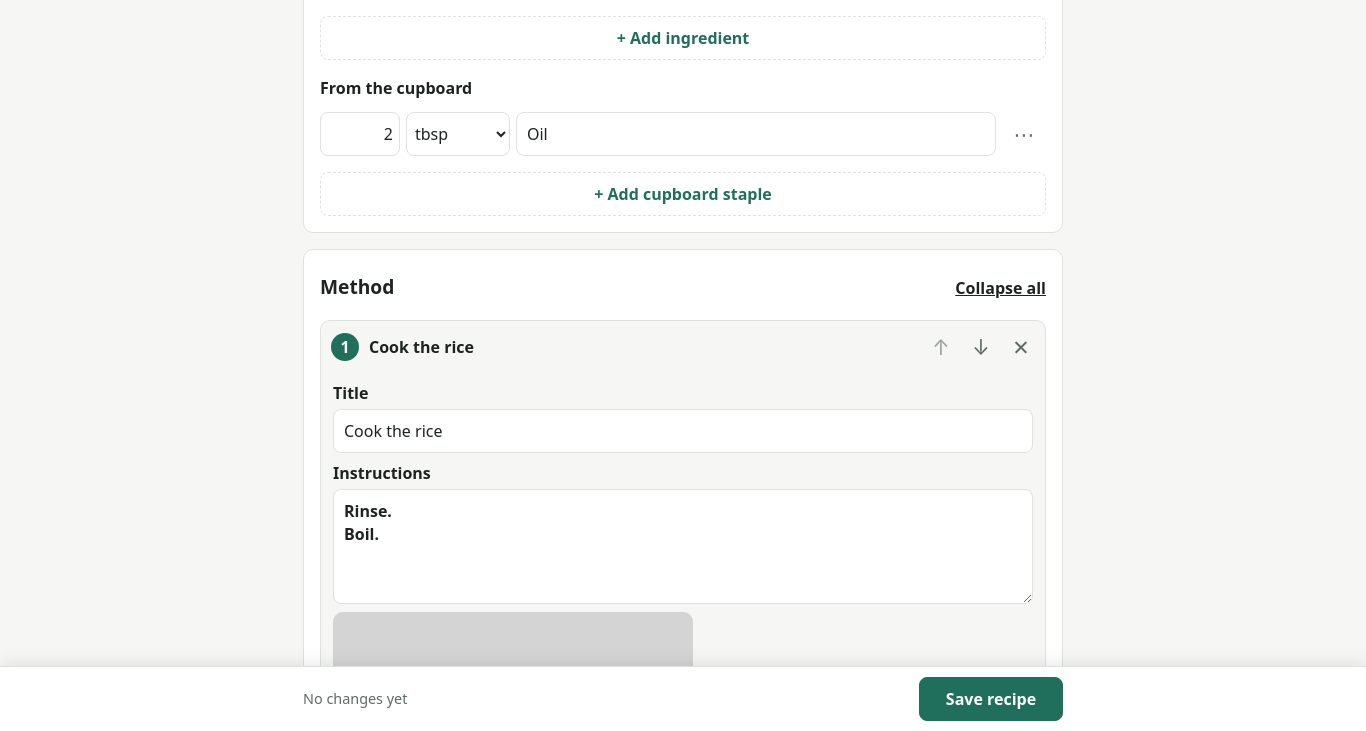
Test: editing (T2, T5, T6, T9) › asks before removing a step
(page scrolled)
Click the button named "Remove step 1" at (1021, 347), box [1001,325,1041,369]
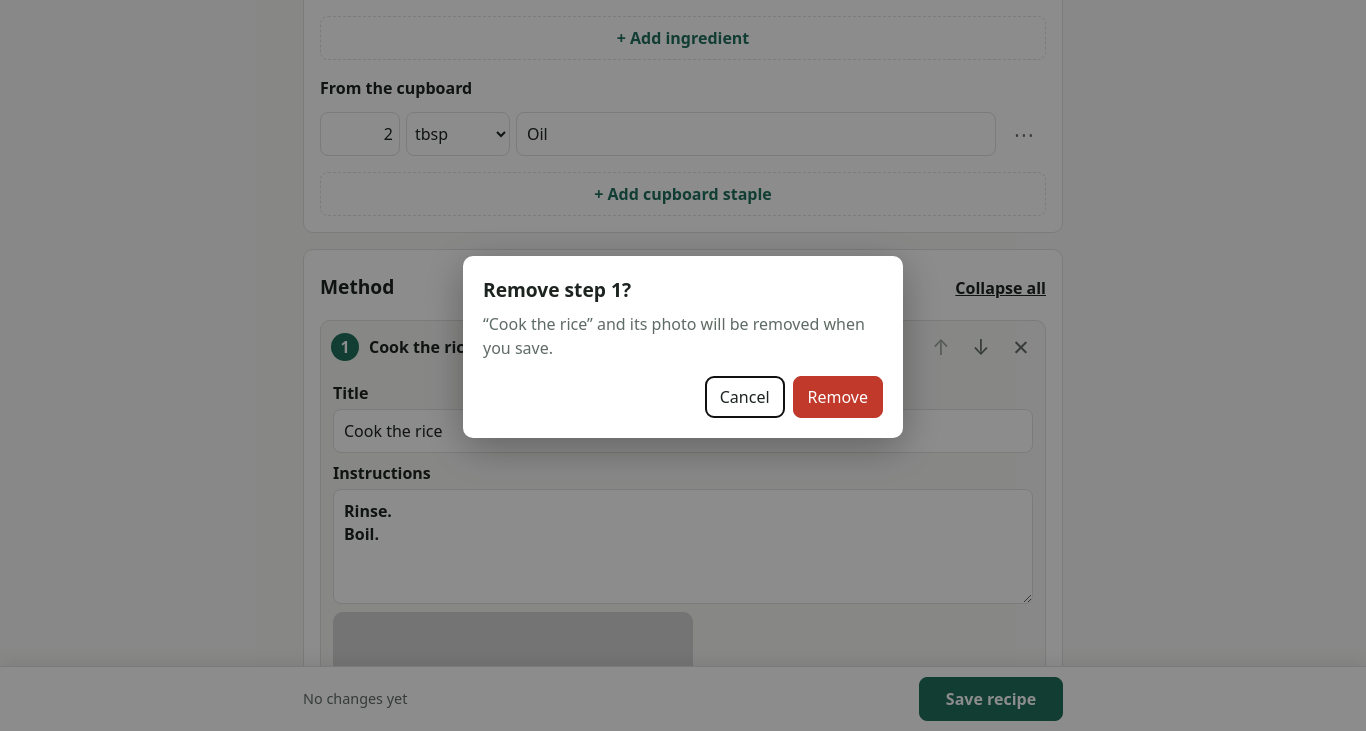
Result: the heading "Remove step 1?" is shown at [483,276,631,303]
Click the button "Cancel" at (745, 397), box [705,376,784,418]
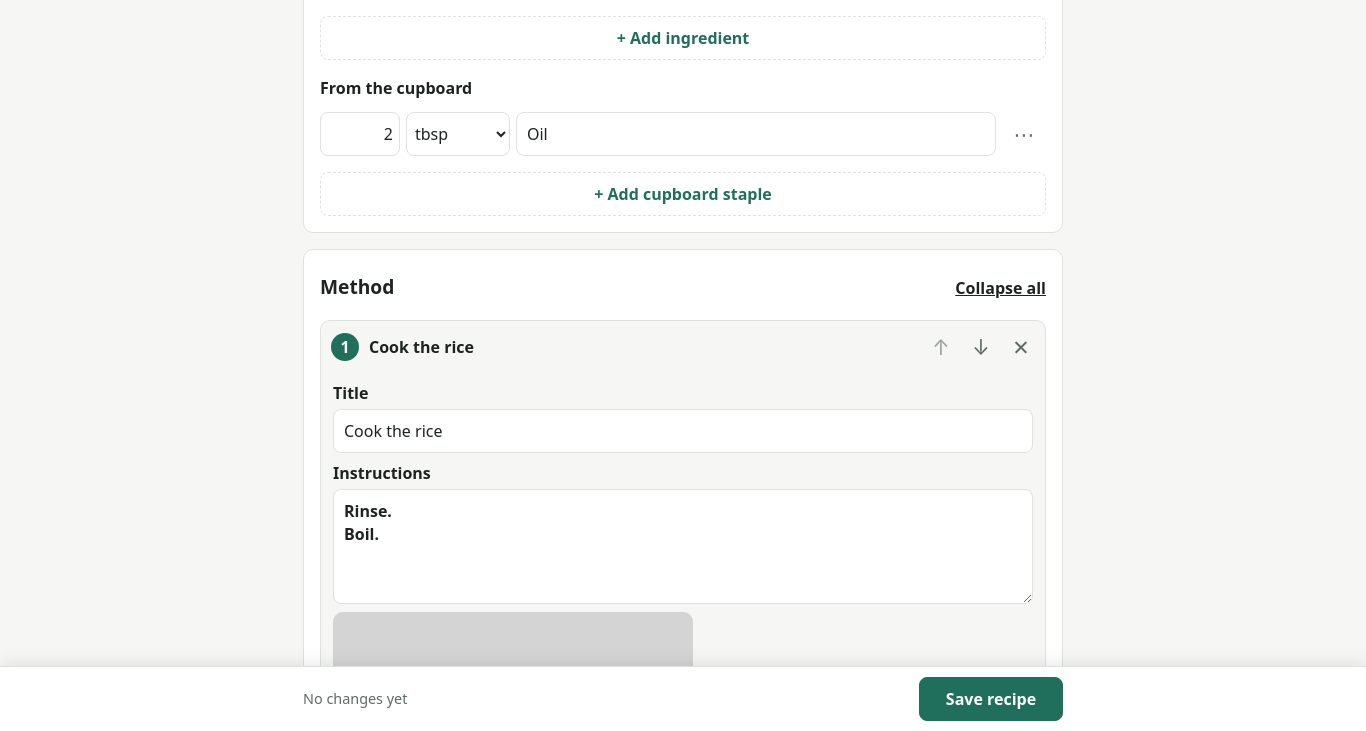
Click the button named "Remove step 1" at (1021, 347), box [1001,325,1041,369]
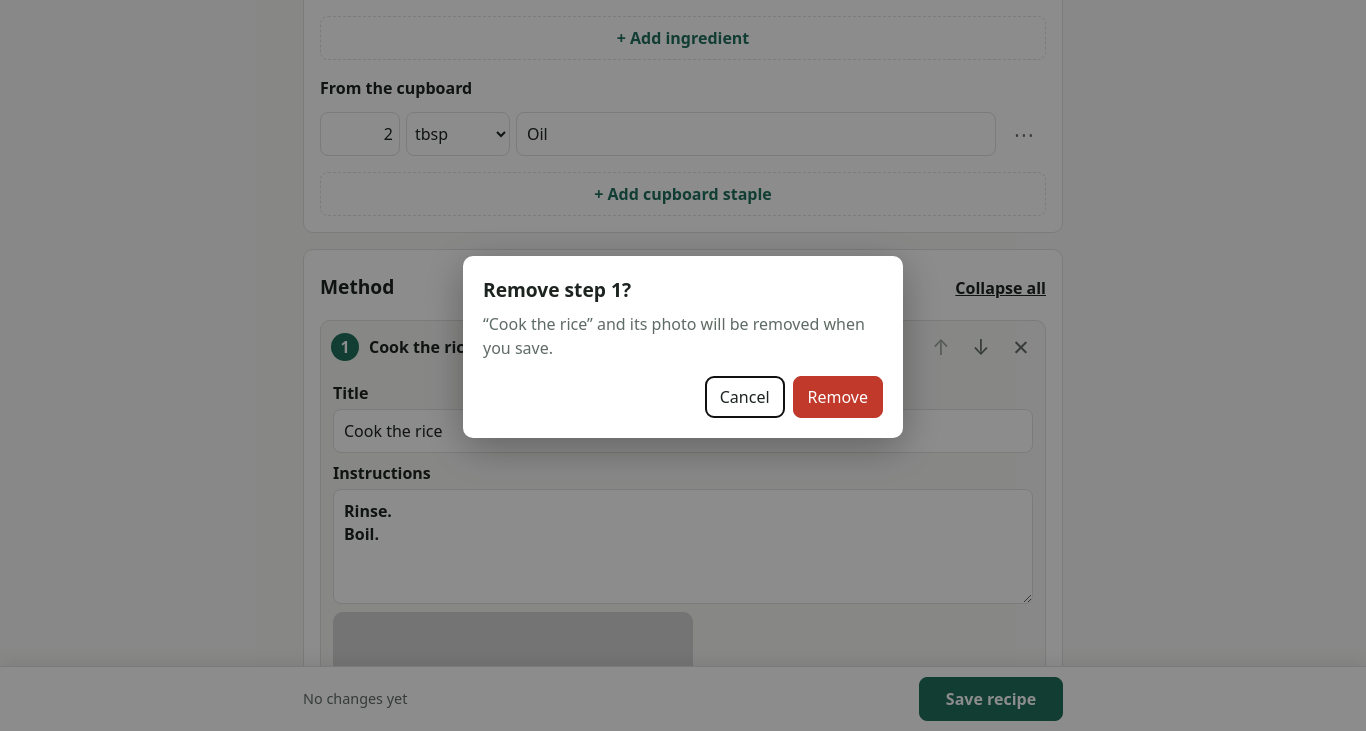
Click the button "Remove" at (838, 397), box [792,376,883,418]
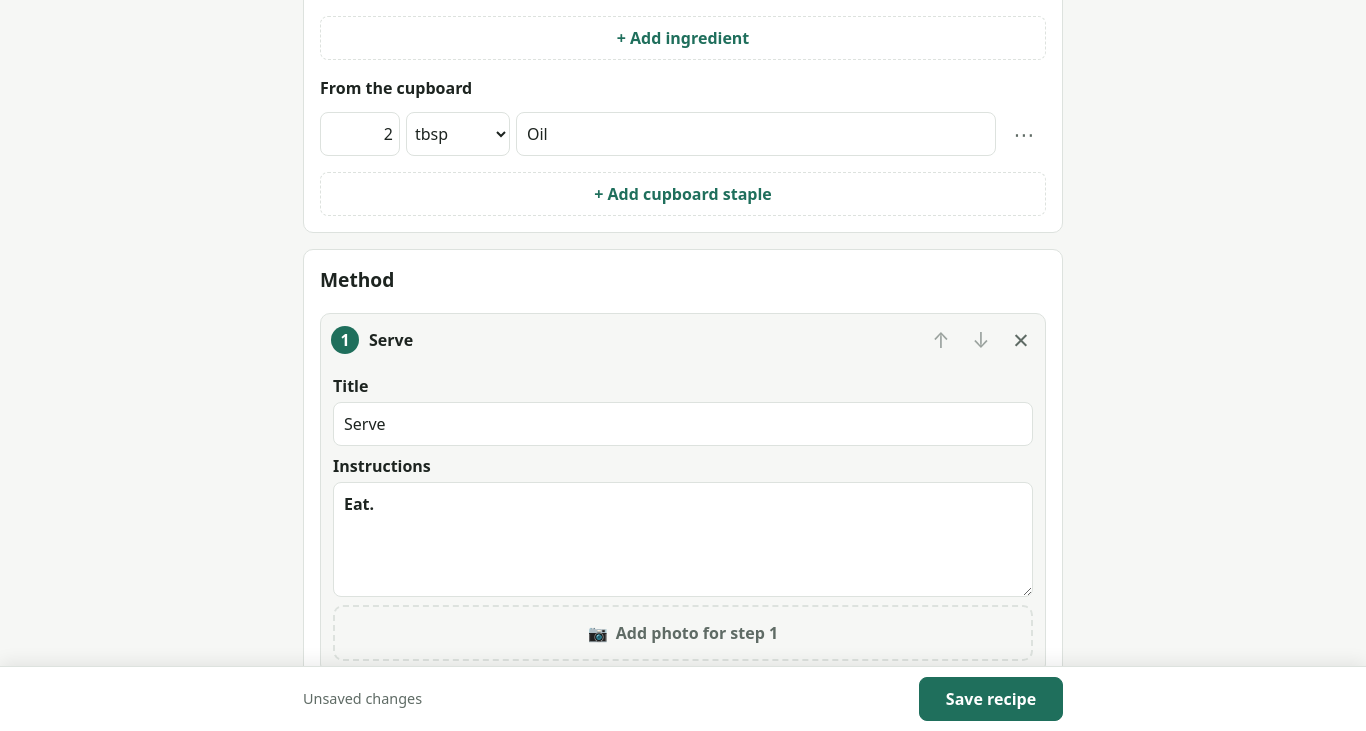
Result: the number of buttons named "Remove step" is 1 at [1001,318,1041,362]
